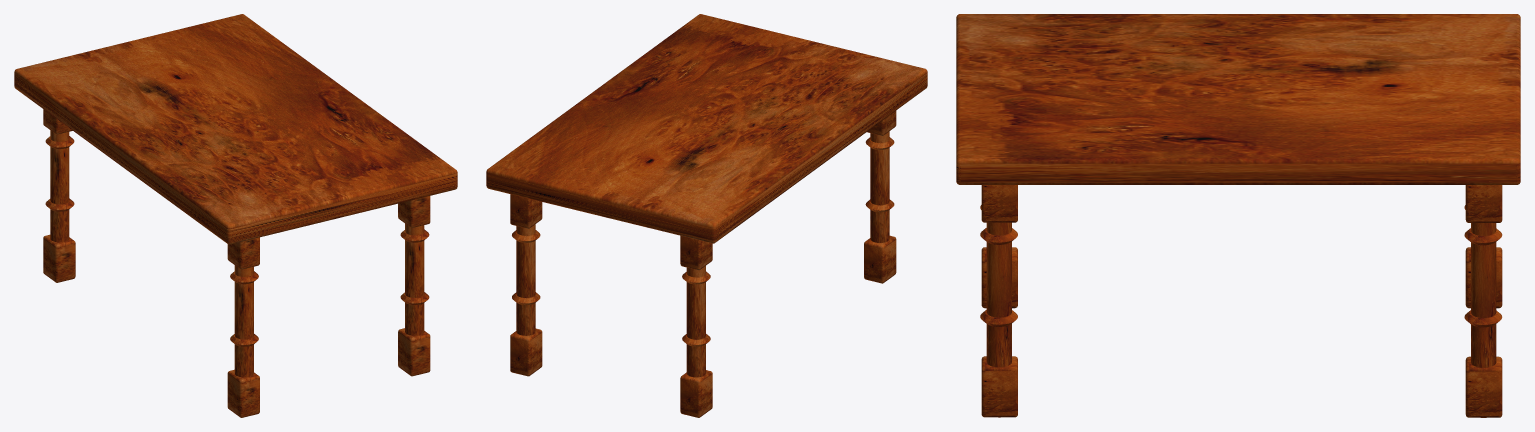
File: table.FBX
3 renders of one model, left to right at view 1: azimuth 30°, elevation 25°; view 2: azimuth 150°, elevation 25°; view 3: azimuth 270°, elevation 25°, orthographic. The views are drawn at different scales.
Visible parts, largest first — view 1: ChamferBox01, Cone02, Cone04, Cone01, ChamferBox02, ChamferBox09, ChamferBox05, ChamferBox08, ChamferBox04; view 2: ChamferBox01, Cone01, Cone03, Cone02, ChamferBox07, ChamferBox05, ChamferBox02, ChamferBox03, ChamferBox06; view 3: ChamferBox01, Cone04, Cone03, ChamferBox07, ChamferBox09, ChamferBox06, ChamferBox08, ChamferBox02, ChamferBox05.
Boxes of the visible parts, x1,y1,x2,y2 form: ChamferBox01: (14, 14, 457, 244); Cone02: (234, 265, 253, 377); Cone04: (405, 223, 424, 335); Cone01: (50, 130, 69, 242); ChamferBox02: (43, 234, 75, 282); ChamferBox09: (398, 328, 430, 376); ChamferBox05: (227, 369, 259, 417); ChamferBox08: (398, 196, 430, 227); ChamferBox04: (227, 237, 259, 269); ChamferBox01: (486, 14, 927, 243); Cone01: (686, 266, 705, 377); Cone03: (516, 224, 535, 335); Cone02: (870, 131, 889, 242); ChamferBox07: (510, 328, 542, 376); ChamferBox05: (864, 235, 896, 283); ChamferBox02: (680, 370, 712, 417); ChamferBox03: (680, 235, 712, 270); ChamferBox06: (510, 194, 542, 228); ChamferBox01: (956, 14, 1520, 184); Cone04: (986, 222, 1011, 417); Cone03: (1471, 223, 1496, 417); ChamferBox07: (1465, 356, 1502, 417); ChamferBox09: (981, 356, 1017, 417); ChamferBox06: (1465, 185, 1502, 222); ChamferBox08: (981, 185, 1017, 222); ChamferBox02: (1465, 247, 1502, 308); ChamferBox05: (981, 247, 1017, 308).
Bounding box in the file's own units: 42.23 × 35.99 × 68.31.
